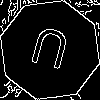U: (25, 25, 72, 80)
